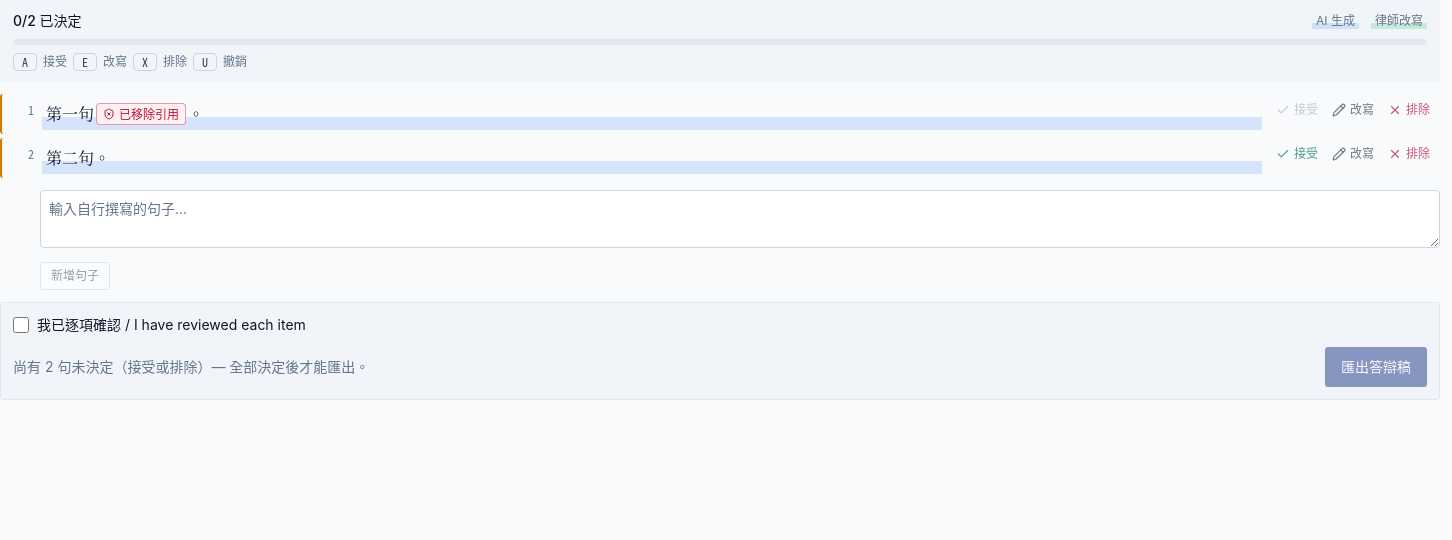
DraftEditor commitEdit — CITATION_REMOVED gate › an edit that removes the marker accepts the line
Press e in the list item with test id "draft-line", box [0, 94, 1440, 134]
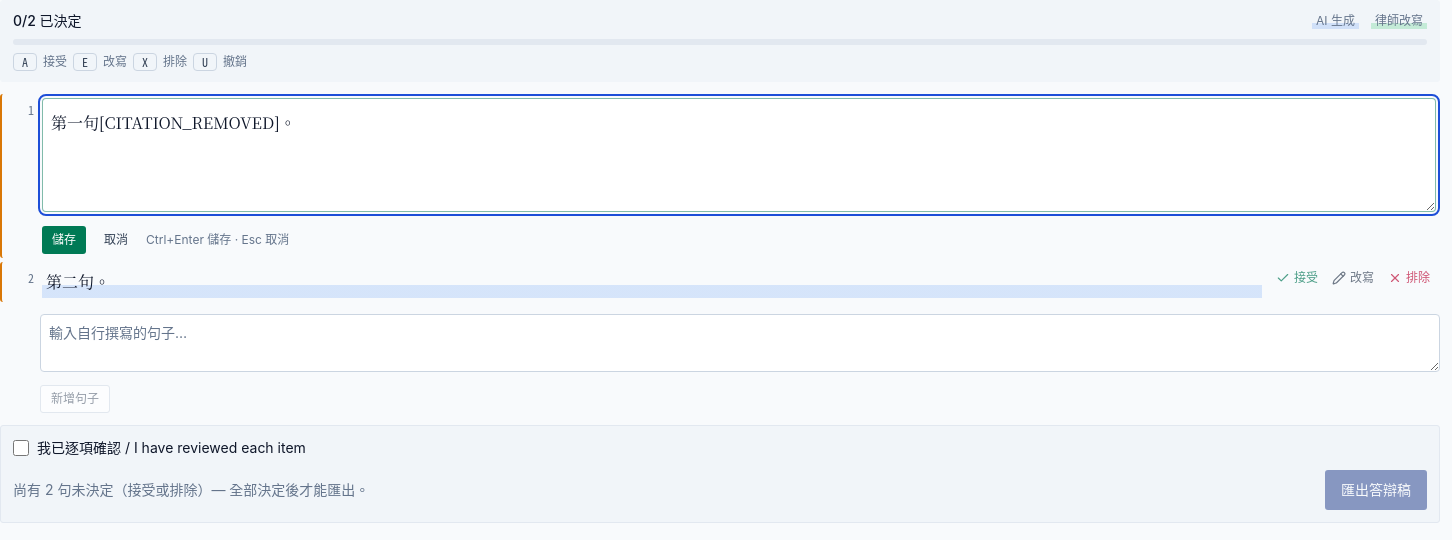
Replace the text in the 1st text box with "已由律師改寫。" at (739, 155), box [42, 98, 1436, 212]
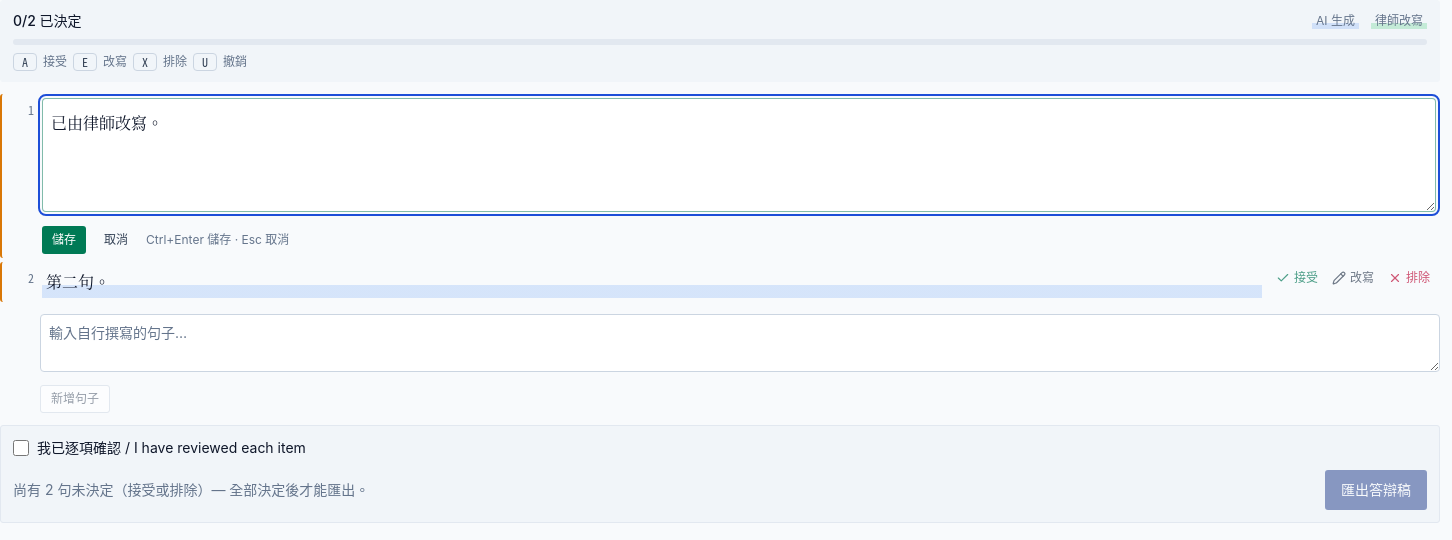
Press Enter in the 1st text box, box [42, 98, 1436, 212]
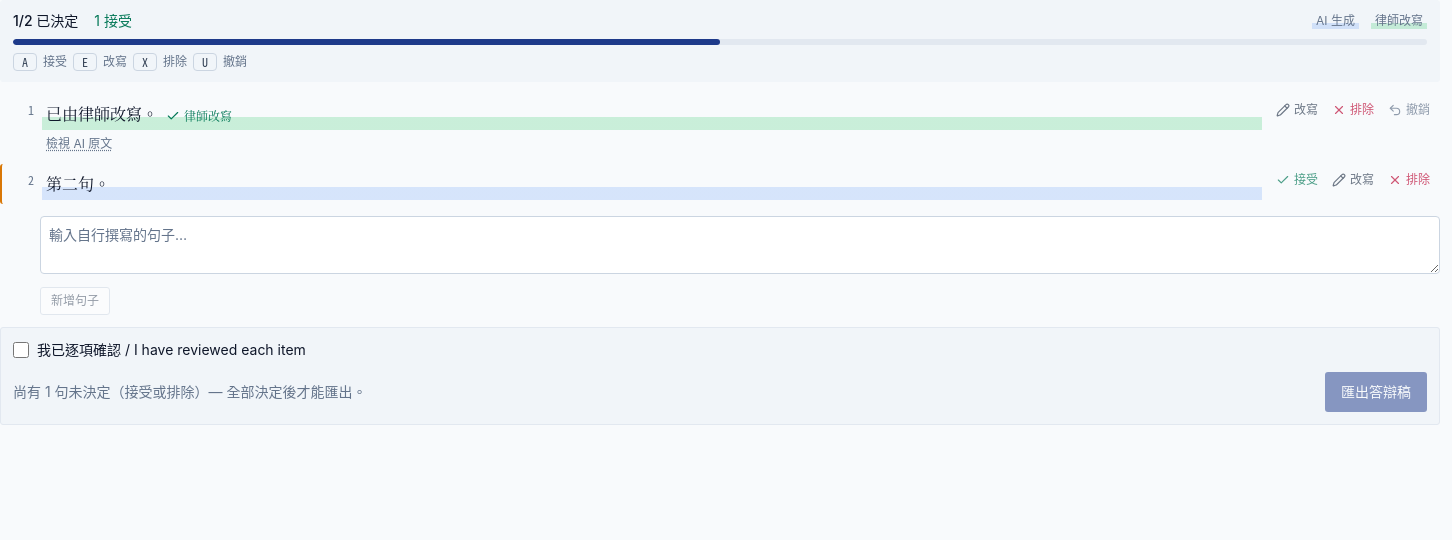
Expected: the list item with test id "draft-line" shows "已由律師改寫。", [46, 102, 158, 125]
